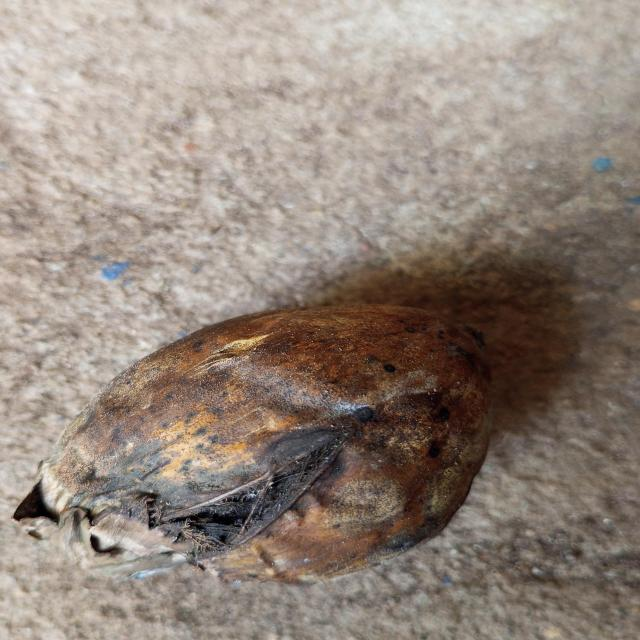damaged: (17, 299, 499, 586)
